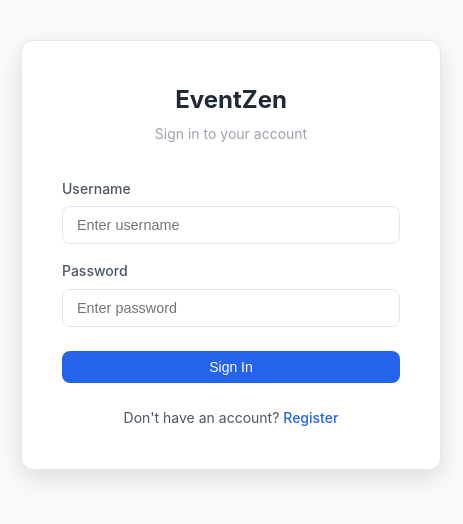
Test case: Login Page › shows validation errors on empty submit
The width and height of the screenshot is (463, 524).
Click the button "Sign In". click: (231, 367)
box: left=62, top=351, right=400, bottom=383
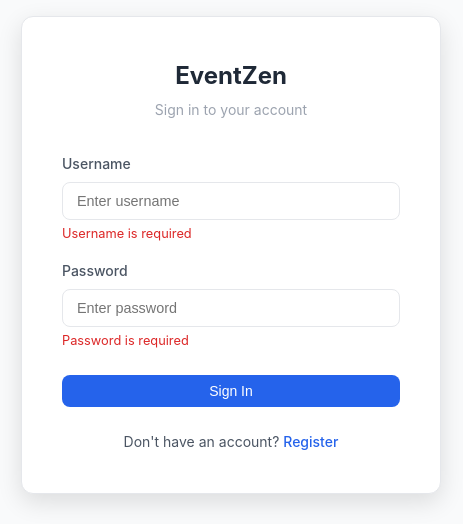
Check: the text "Username is required" is shown, box left=62, top=226, right=192, bottom=241
